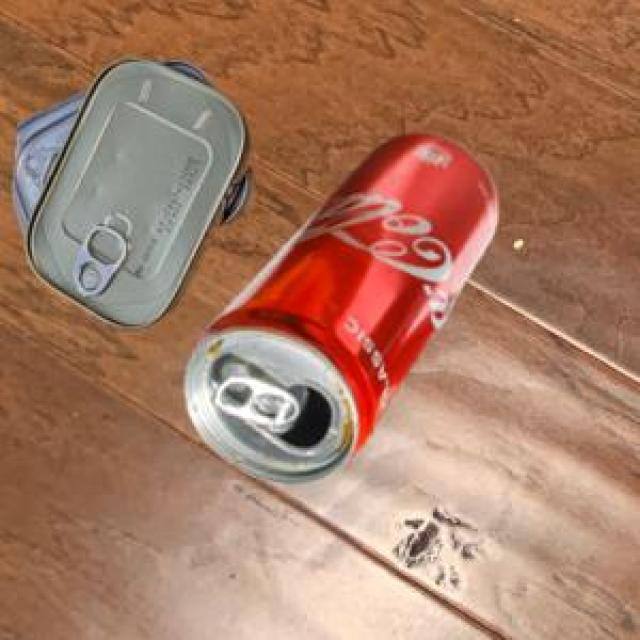logam: (180, 131, 494, 481), (10, 54, 251, 325)
